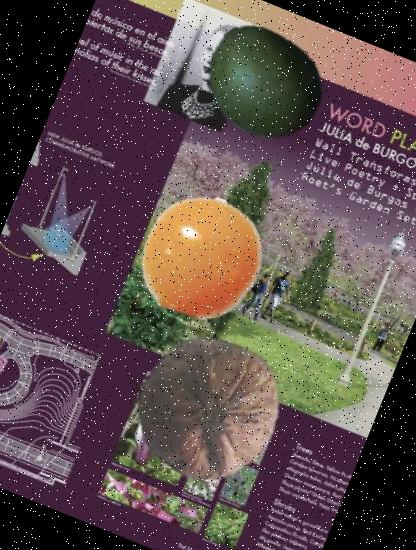Mango: (184, 2, 343, 160)
Physalis: (123, 177, 282, 336)
Walnut: (112, 312, 306, 506)
